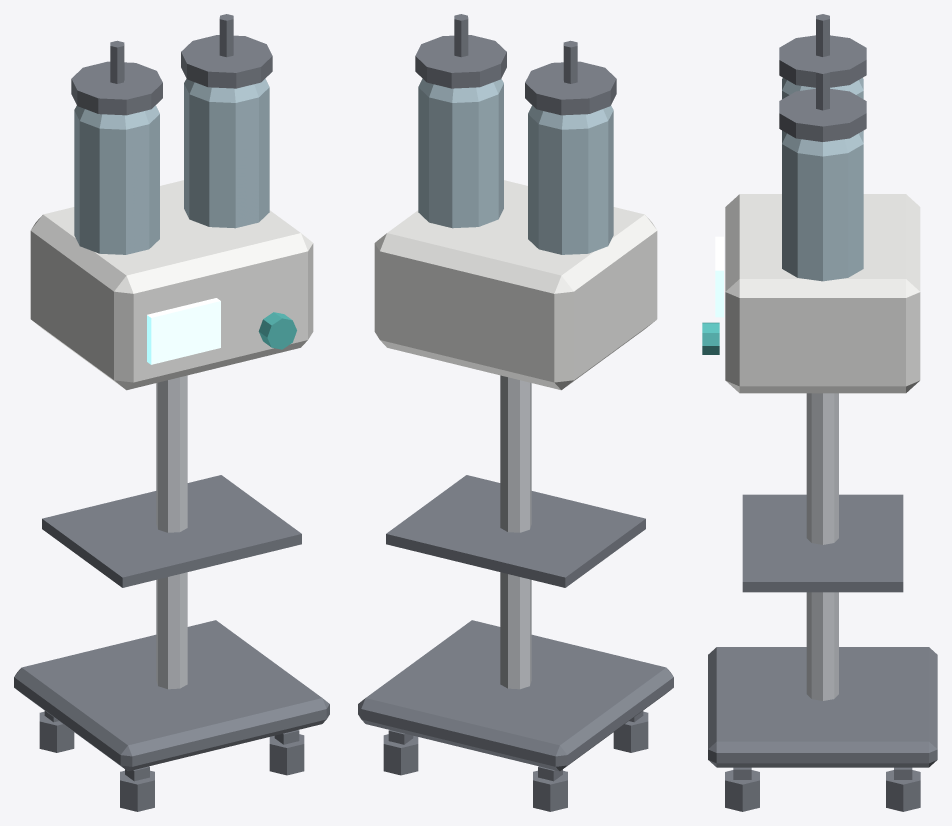
Rendered from medical-23618.glb.
The picture shows the model from 3 angles, left to right: view 1: azimuth 30°, elevation 25°; view 2: azimuth 150°, elevation 25°; view 3: azimuth 270°, elevation 25°; orthographic projection.
Parts seen in each view (by area): view 1: suction-unit; view 2: suction-unit; view 3: suction-unit.
Part boxes in pixels (x1,y1,x2,y2): suction-unit: (14, 14, 329, 811); suction-unit: (358, 14, 673, 811); suction-unit: (702, 14, 937, 811).
Size of the model in its own units: 0.42 by 1.39 by 0.41.
